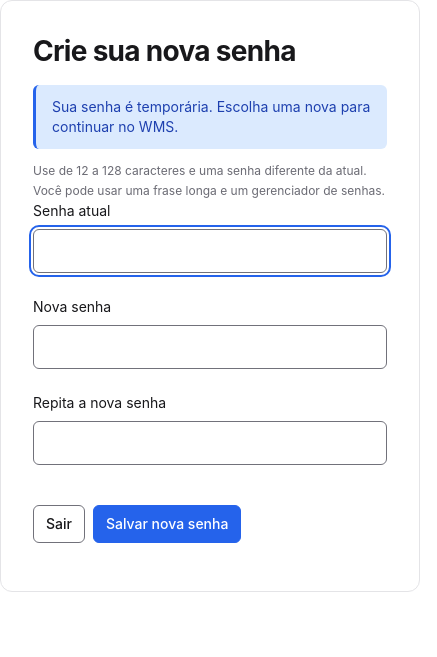
Scenario: login real › explica senha invalida antes de enviar: Fixture-atual-123!
Type "Fixture-atual-123!" into the password field labelled "Senha atual" at (210, 251), box top-left (33, 229), bottom-right (387, 273)
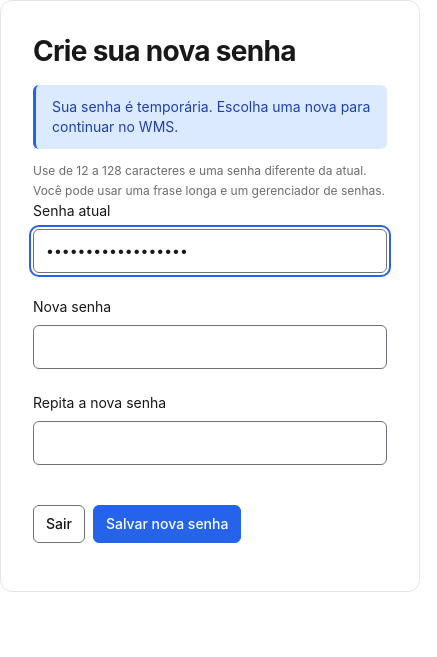
Type "Fixture-atual-123!" into the password field labelled "Nova senha" at (210, 347), box top-left (33, 325), bottom-right (387, 369)
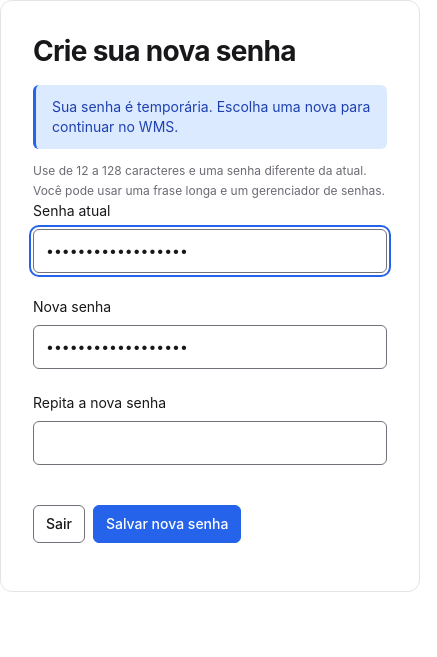
Type "Fixture-atual-123!" into the password field labelled "Repita a nova senha" at (210, 443), box top-left (33, 421), bottom-right (387, 465)
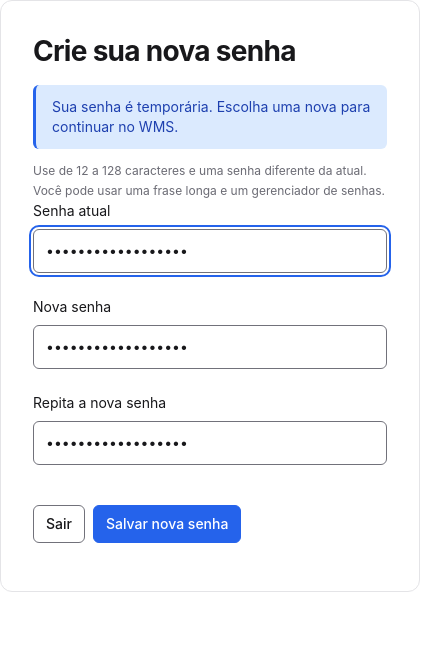
Submit the form "Salvar nova senha", box top-left (33, 201), bottom-right (387, 559)
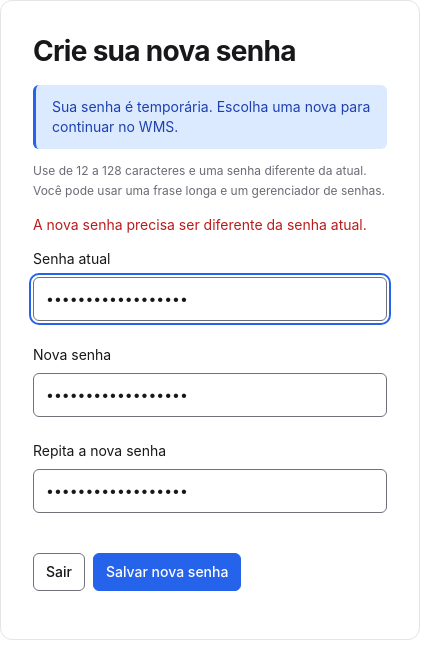
Now the message reads "A nova senha precisa ser diferente da senha atual.", box top-left (33, 216), bottom-right (367, 233)
